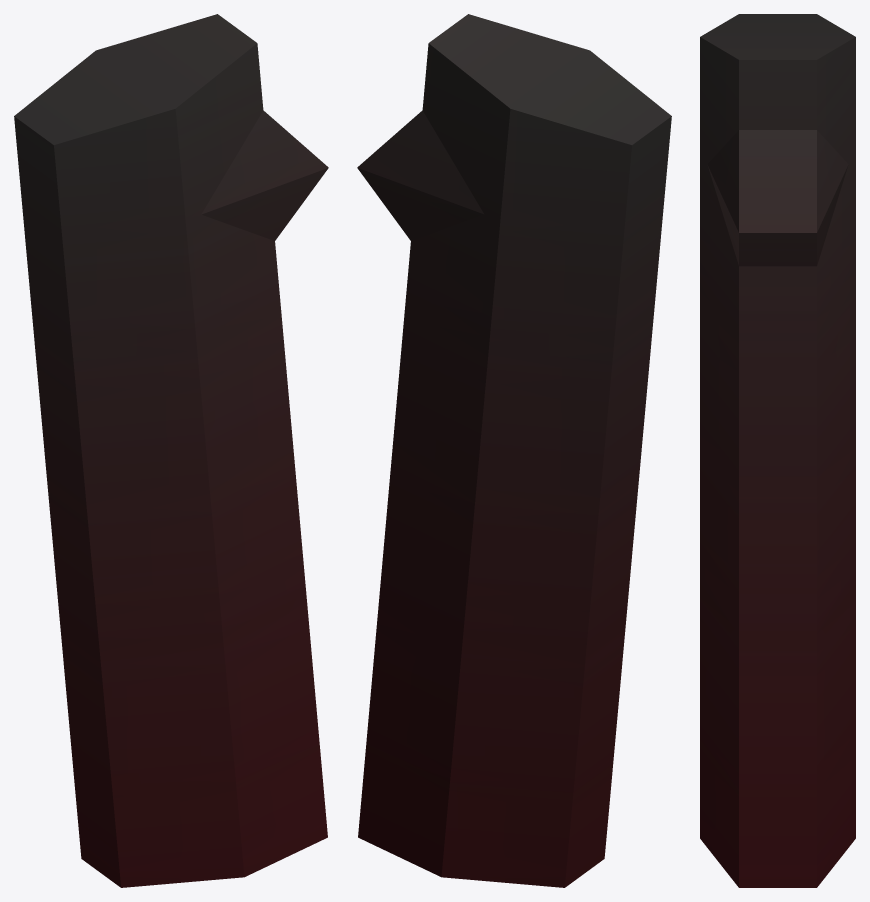
Rendered from SM_Arch_Small_03.fbx.
3 views of the same model, side by side, from view 1: azimuth 30°, elevation 25°; view 2: azimuth 150°, elevation 25°; view 3: azimuth 270°, elevation 25° (orthographic). The views are drawn at different scales.
Visible parts, largest first — view 1: SM_Arch_Small_03; view 2: SM_Arch_Small_03; view 3: SM_Arch_Small_03.
Boxes of the visible parts, x1,y1,x2,y2 form: SM_Arch_Small_03: (14,14,328,887); SM_Arch_Small_03: (357,14,671,887); SM_Arch_Small_03: (700,14,855,887).
Bounding box in the file's own units: 99.73 × 281 × 50.
1 material, 1 textured.
